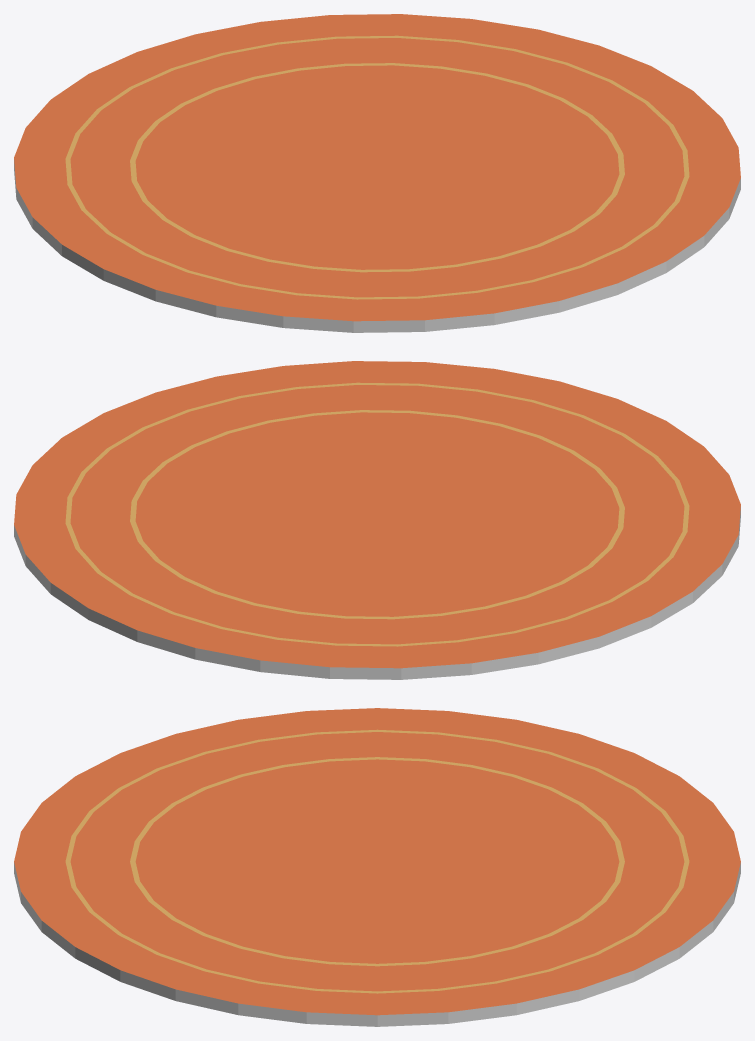
The model's file is Plato.fbx.
3 renders of one model, top to bottom at view 1: azimuth 30°, elevation 25°; view 2: azimuth 150°, elevation 25°; view 3: azimuth 270°, elevation 25°, orthographic.
Parts seen in each view (by area): view 1: plataform1.001; view 2: plataform1.001; view 3: plataform1.001.
Boxes of the visible parts, x1,y1,x2,y2 form: plataform1.001: (14,14,740,332); plataform1.001: (14,361,740,679); plataform1.001: (14,708,740,1026).
Size of the model in its own units: 1757 by 31.12 by 1757.
